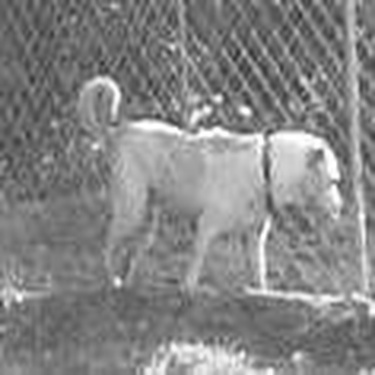dog: (54, 65, 345, 298)
